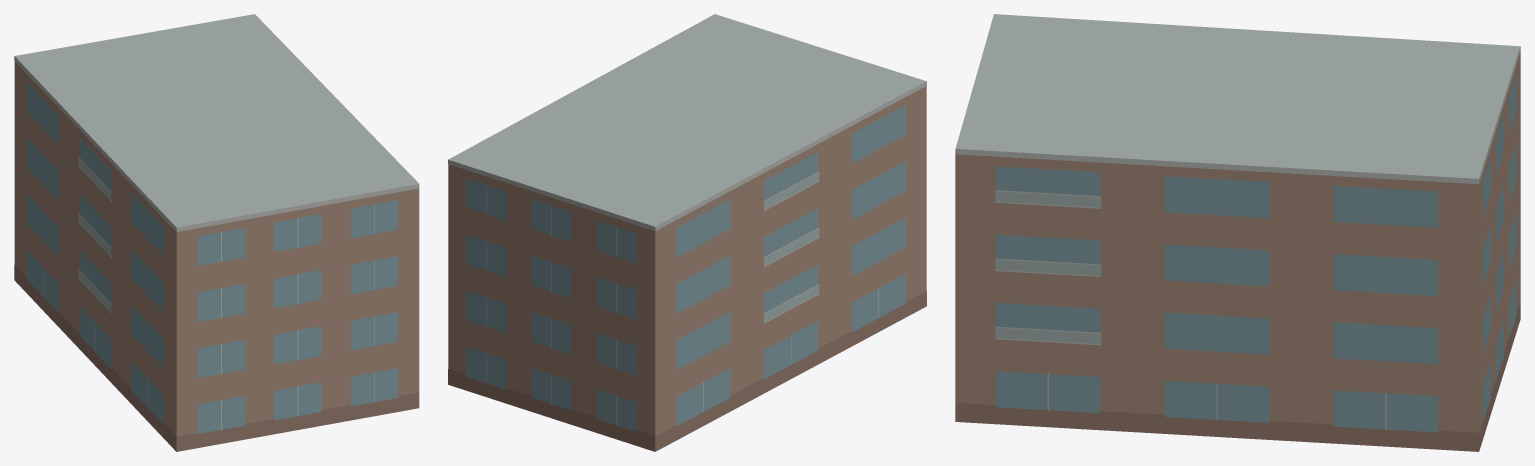
Rendered from residential-06618ff4-abca-475f-9550-dbfab3ea8d21.glb.
3 views of the same model, side by side, from view 1: azimuth 30°, elevation 25°; view 2: azimuth 150°, elevation 25°; view 3: azimuth 270°, elevation 25° (orthographic). The views are drawn at different scales.
Visible parts, largest first — view 1: residential-06618ff4-abca-475f-9550-dbfab3ea8d21.tmp; view 2: residential-06618ff4-abca-475f-9550-dbfab3ea8d21.tmp; view 3: residential-06618ff4-abca-475f-9550-dbfab3ea8d21.tmp.
Boxes of the visible parts, x1,y1,x2,y2 form: residential-06618ff4-abca-475f-9550-dbfab3ea8d21.tmp: [14, 14, 419, 451]; residential-06618ff4-abca-475f-9550-dbfab3ea8d21.tmp: [448, 14, 926, 451]; residential-06618ff4-abca-475f-9550-dbfab3ea8d21.tmp: [955, 14, 1520, 451].
Bounding box in the file's own units: 15.82 × 12.2 × 22.9.
